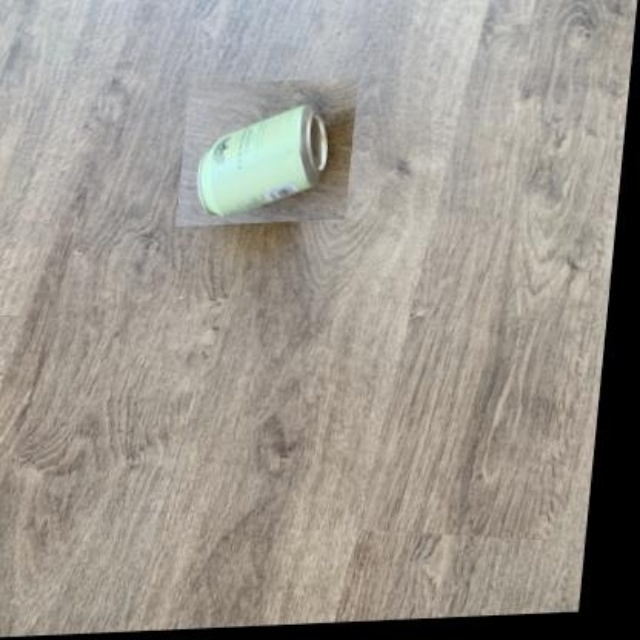trash: (197, 105, 326, 215)
